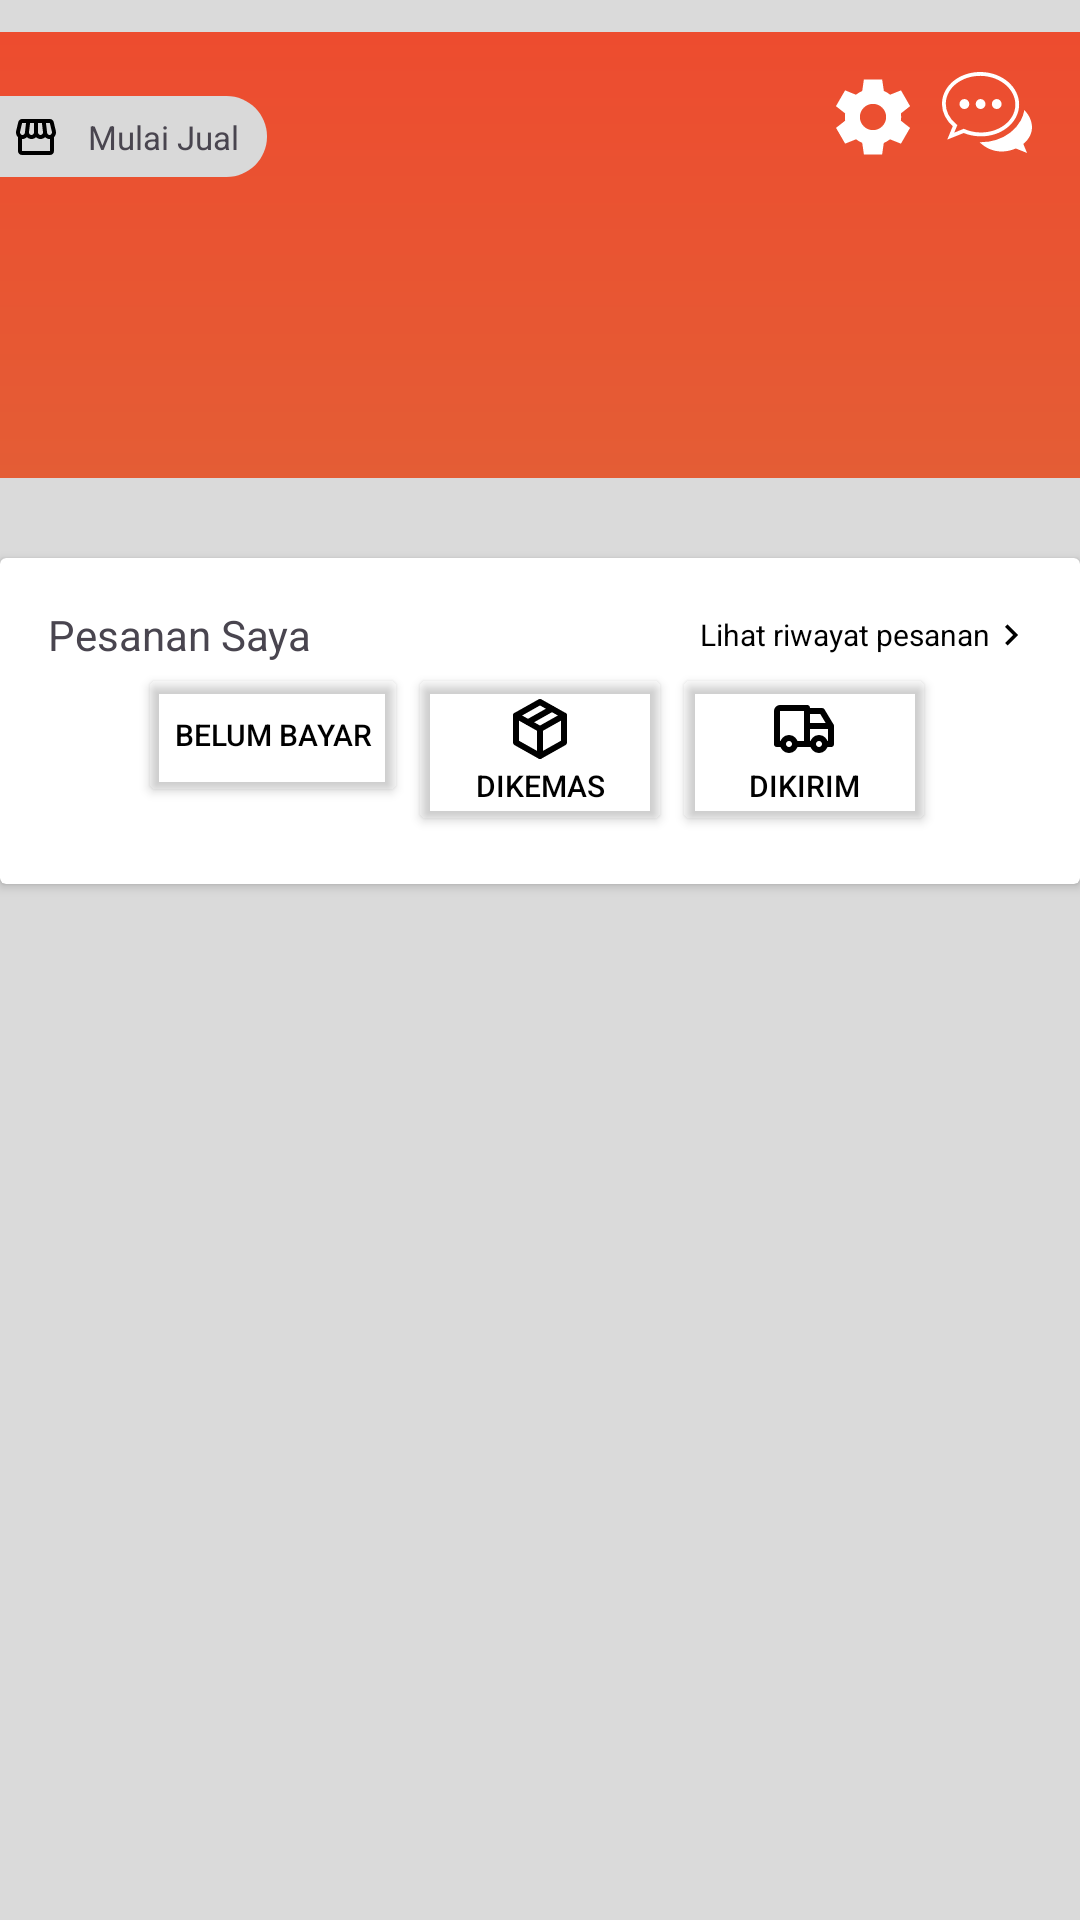

Icons on this 1080px×1920px Android screen, each with the point to tap as (x=x, y=y):
chat bubble: (x=987, y=112)
settings: (x=873, y=117)
storefront: (x=36, y=137)
